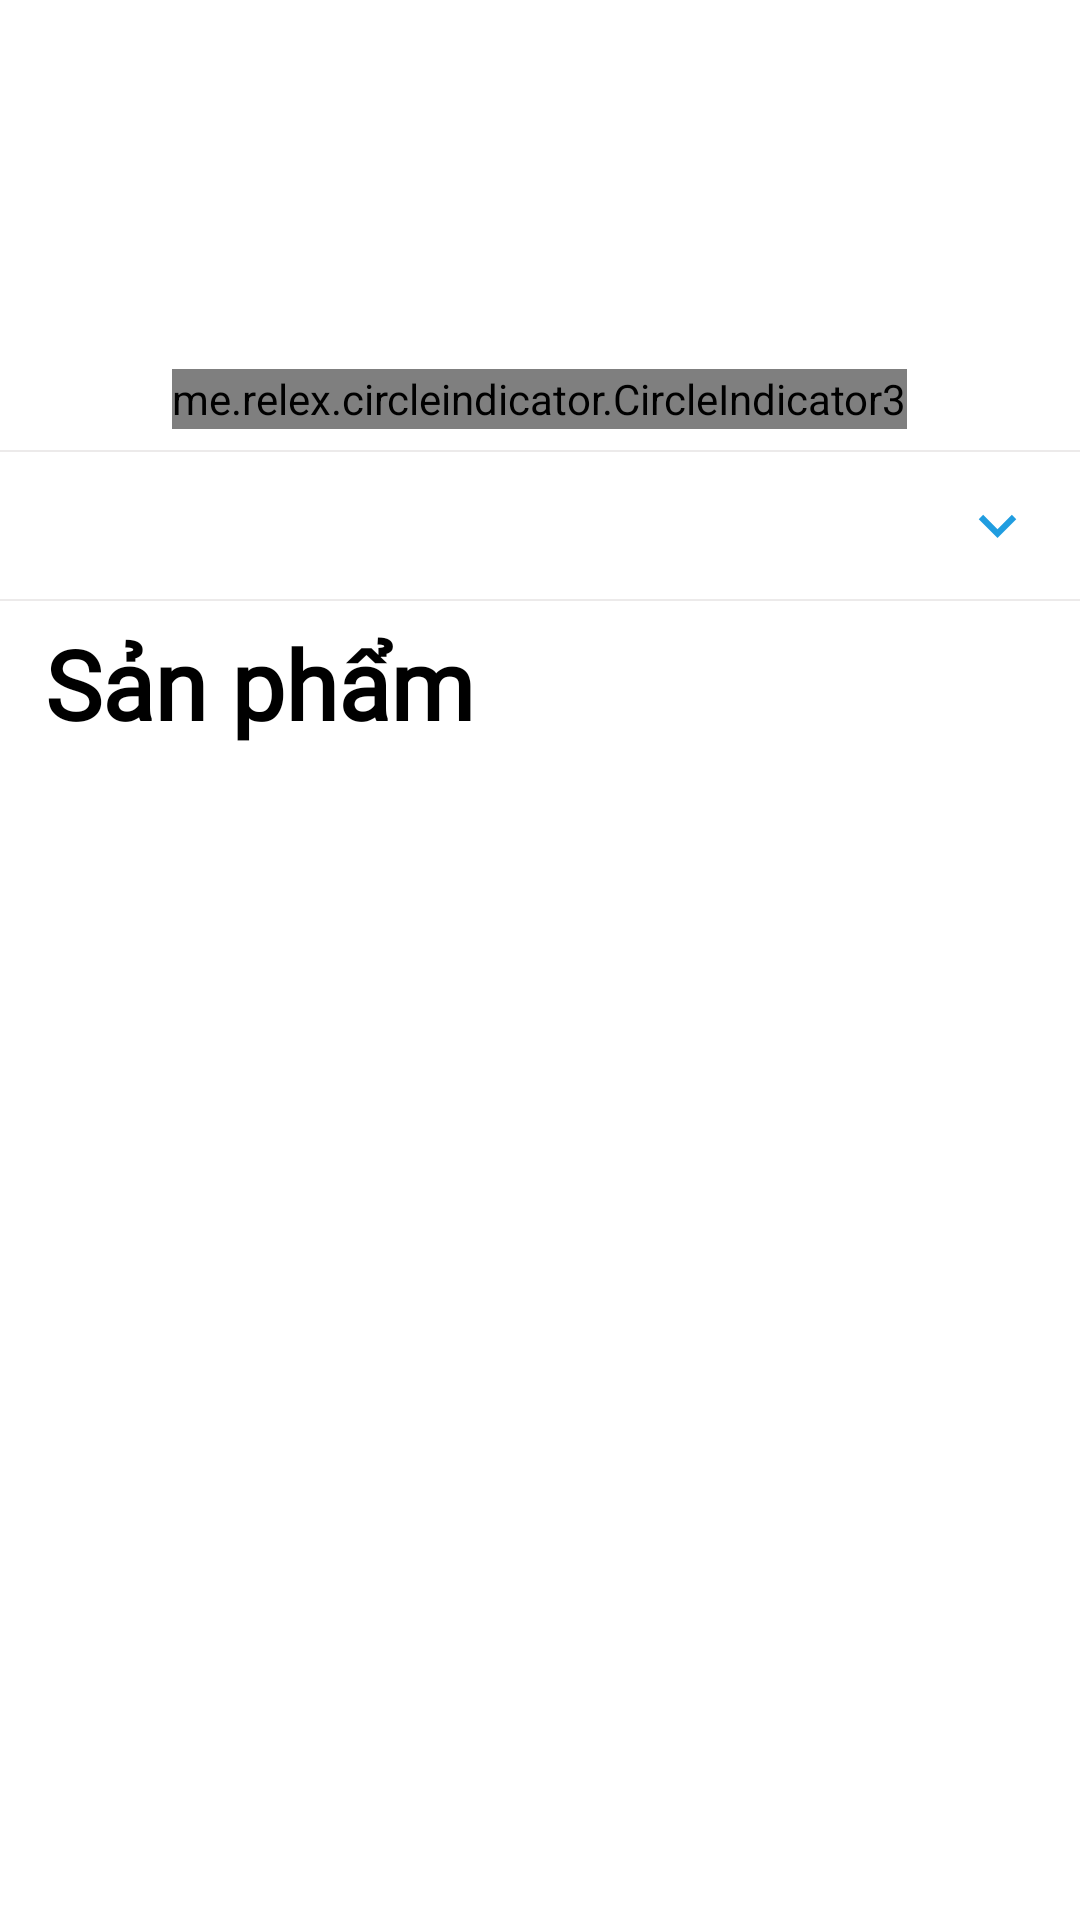

Icons on this 1080x1920 Android screen, each with its box as (x1, y1, x2, y2):
arrow down: (979, 515, 1016, 538)
